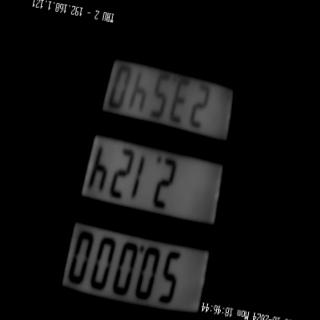screen: (49, 18, 254, 320)
